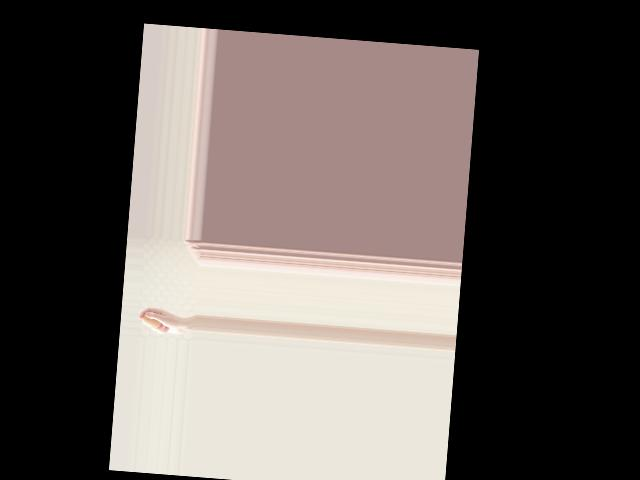egg: (141, 312, 162, 329)
